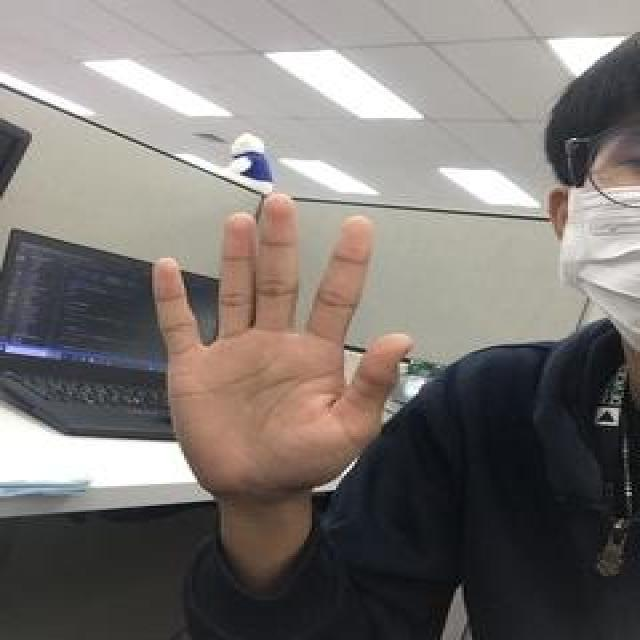no-gloves: (156, 190, 412, 496)
